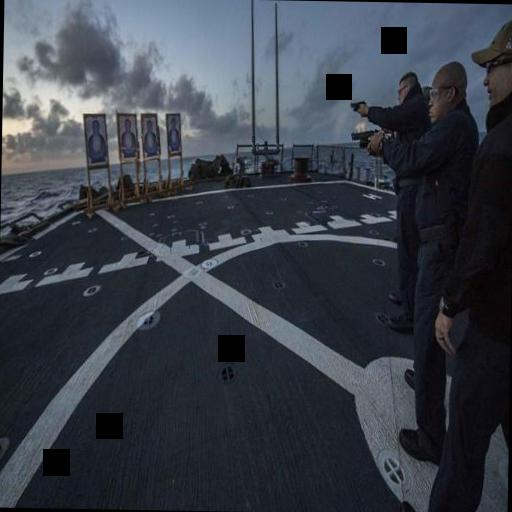Handgun: (348, 120, 378, 154), (348, 94, 364, 114)
